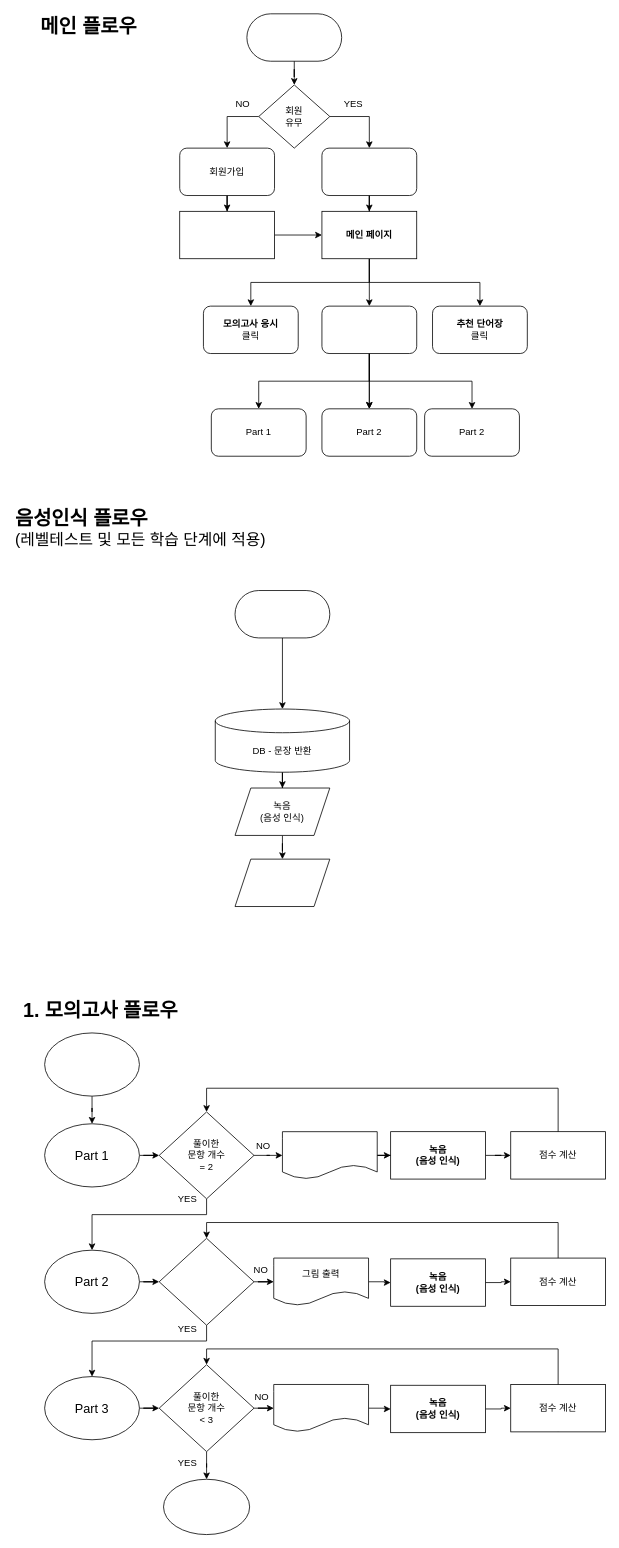
The diagram is 619 pixels wide and 1548 high, and some of its shapes have lost their labels. The box of each missing label's shape, as (x1, y1, x2, y2) in pixels:
등급 계산: (163, 1478, 250, 1535)
로그인: (321, 147, 417, 196)
모의고사: (44, 1032, 139, 1096)
문장 출력: (282, 1131, 377, 1179)
설문 / 레벨 테스트: (179, 211, 275, 259)
음성 인식: (234, 858, 330, 907)
접속: (246, 13, 342, 61)
지문 및 문장 출력: (273, 1384, 369, 1432)
파트별 집중학습 클릭: (321, 305, 417, 354)
풀이한 문항 개수 < 2: (158, 1238, 254, 1325)
학습 선택: (234, 590, 330, 638)
